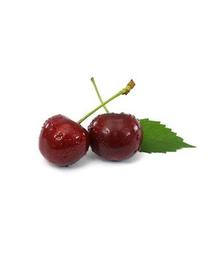cherry: (37, 114, 89, 168), (89, 112, 143, 161)
